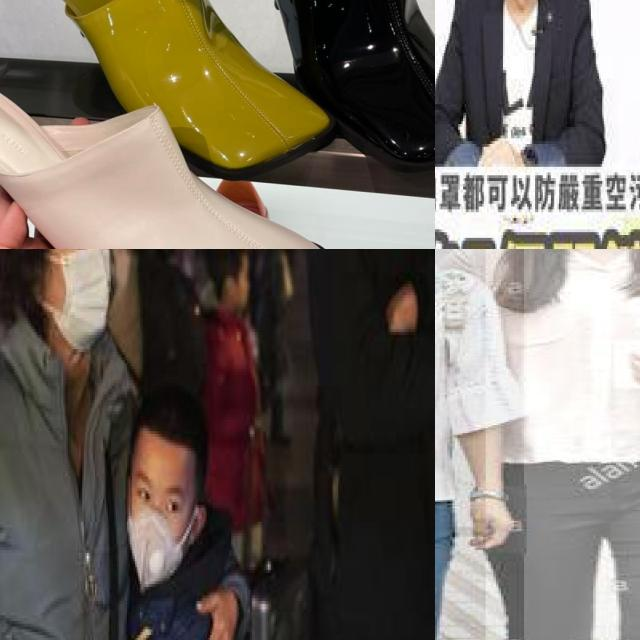Sandals: (18, 0, 401, 238), (0, 43, 391, 249), (219, 0, 435, 202)
face_mask: (124, 462, 192, 590), (43, 249, 109, 349)
face_nomask: (231, 258, 250, 306)
hand_noglove: (468, 486, 529, 554), (191, 585, 239, 640), (613, 340, 640, 389)
head_nohelmet: (132, 380, 199, 465), (213, 249, 243, 301)
person: (0, 249, 200, 640), (485, 249, 640, 640), (103, 383, 242, 640), (435, 249, 526, 640)
